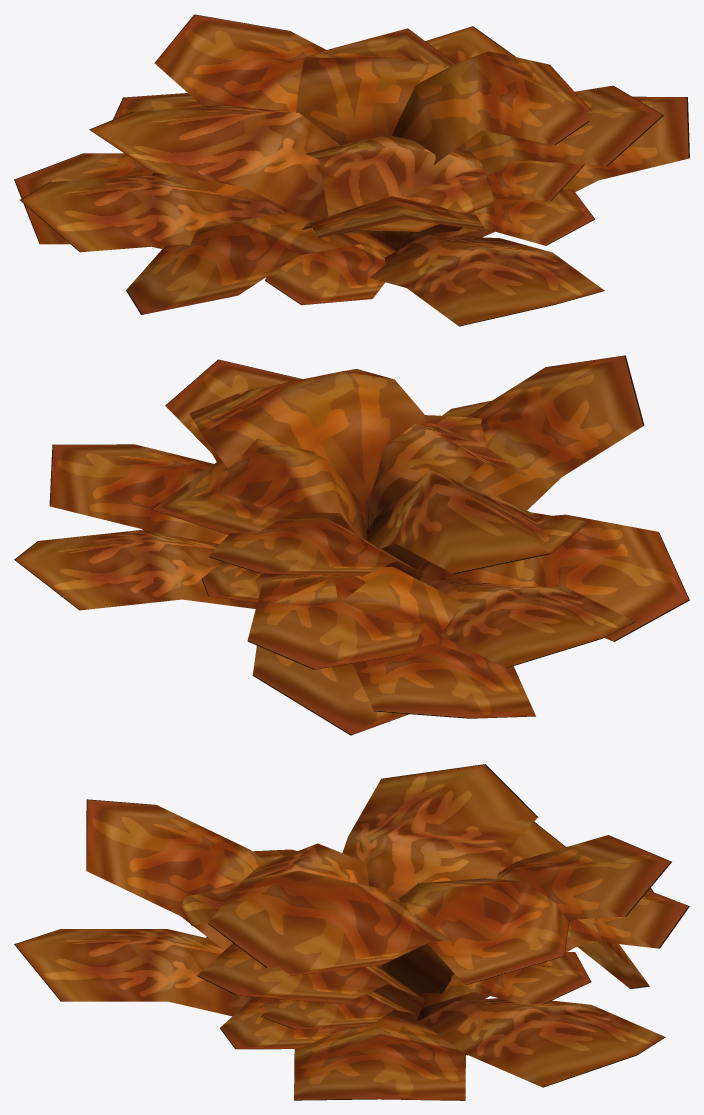
Rendered from Plant_coral_01.fbx.
The picture shows the model from 3 angles, top to bottom: view 1: azimuth 30°, elevation 25°; view 2: azimuth 150°, elevation 25°; view 3: azimuth 270°, elevation 25°; orthographic projection.
Visible parts, largest first — view 1: Plant_coral_01; view 2: Plant_coral_01; view 3: Plant_coral_01.
Boxes of the visible parts, box(x1,y1,x2,y2) form: Plant_coral_01: box(14, 14, 689, 326); Plant_coral_01: box(14, 355, 689, 735); Plant_coral_01: box(14, 764, 689, 1100).
Size of the model in its own units: 249 by 80.33 by 236.
